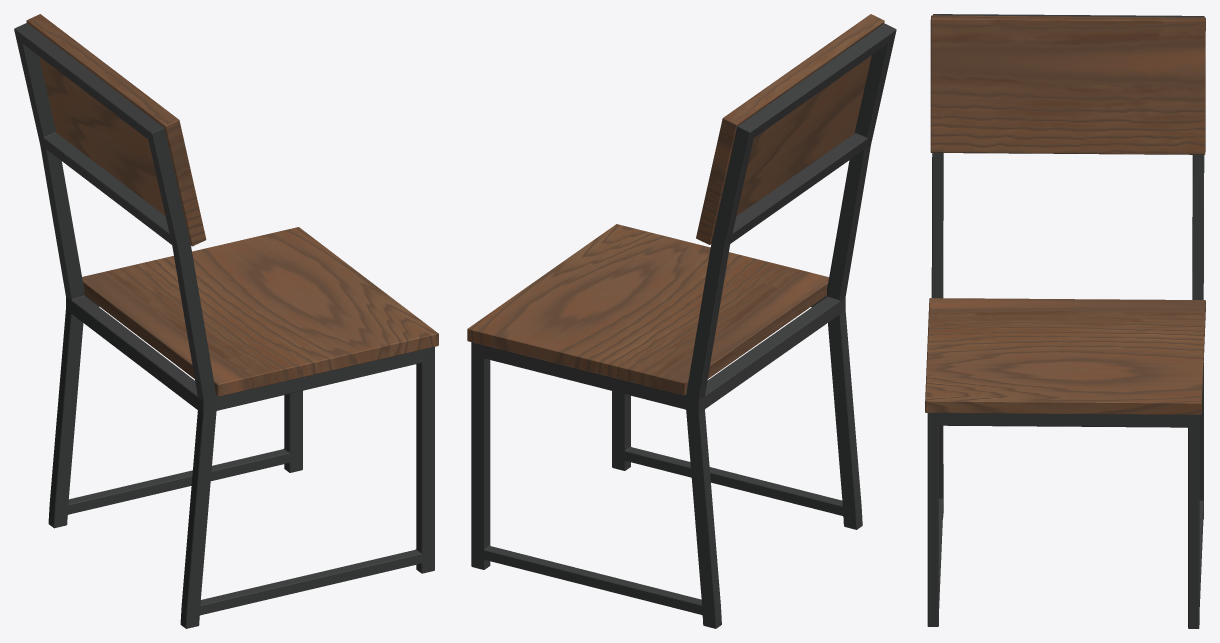
The model's file is chair1.glb.
3 renders of one model, left to right at view 1: azimuth 30°, elevation 25°; view 2: azimuth 150°, elevation 25°; view 3: azimuth 270°, elevation 25°, orthographic. The views are drawn at different scales.
Visible parts, largest first — view 1: Cube.003; view 2: Cube.003; view 3: Cube.003.
Part boxes in pixels (x1,y1,x2,y2): Cube.003: [14, 14, 438, 628]; Cube.003: [467, 14, 896, 628]; Cube.003: [925, 14, 1205, 628].
Bounding box in the file's own units: 0.4649 × 0.7896 × 0.4101.
Materials: 1 (1 with a texture image).
